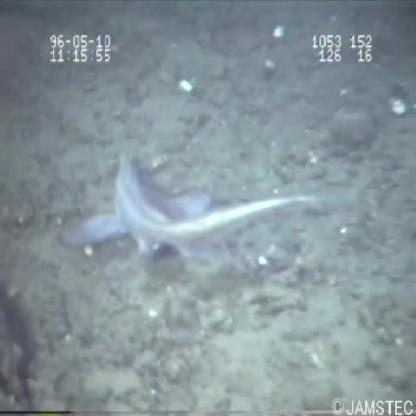Bio: (53, 149, 341, 274)
